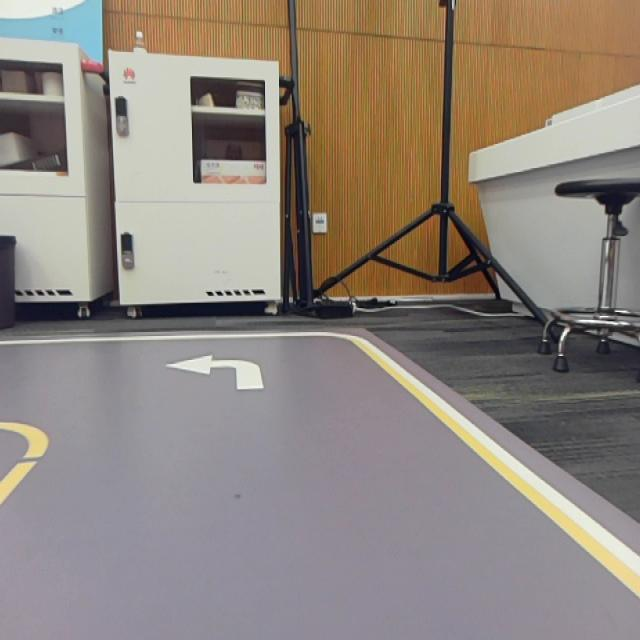left_lane: (0, 435, 48, 504)
right_lane: (350, 339, 640, 596)
